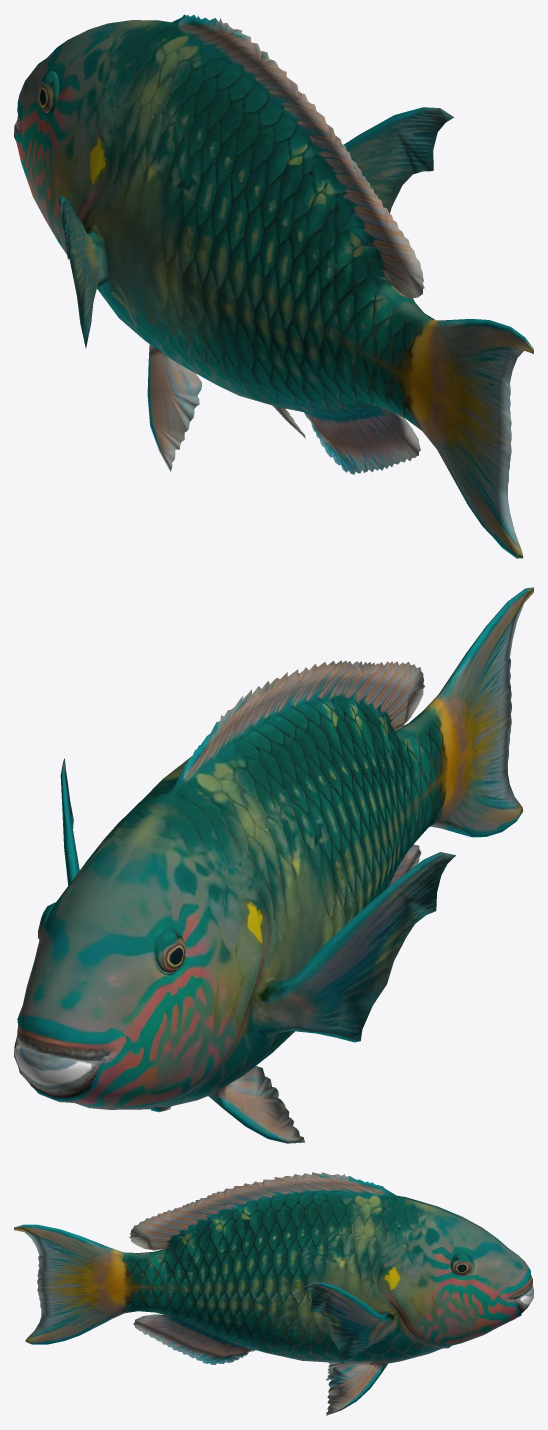
File: stoplicht_papegaai.glb
3 renders of one model, top to bottom at view 1: azimuth 30°, elevation 25°; view 2: azimuth 150°, elevation 25°; view 3: azimuth 270°, elevation 25°, orthographic. The views are drawn at different scales.
Parts seen in each view (by area): view 1: tripo_node_537560ce-86f9-4ff4-b8a2-a3d1748cf70e; view 2: tripo_node_537560ce-86f9-4ff4-b8a2-a3d1748cf70e; view 3: tripo_node_537560ce-86f9-4ff4-b8a2-a3d1748cf70e.
Boxes of the visible parts, x1=… form: tripo_node_537560ce-86f9-4ff4-b8a2-a3d1748cf70e: x1=14, y1=14, x2=533, y2=558; tripo_node_537560ce-86f9-4ff4-b8a2-a3d1748cf70e: x1=14, y1=587, x2=533, y2=1143; tripo_node_537560ce-86f9-4ff4-b8a2-a3d1748cf70e: x1=14, y1=1172, x2=533, y2=1415.
Size of the model in its own units: 0.2878 by 0.3 by 0.6257.
1 material, 1 textured.
